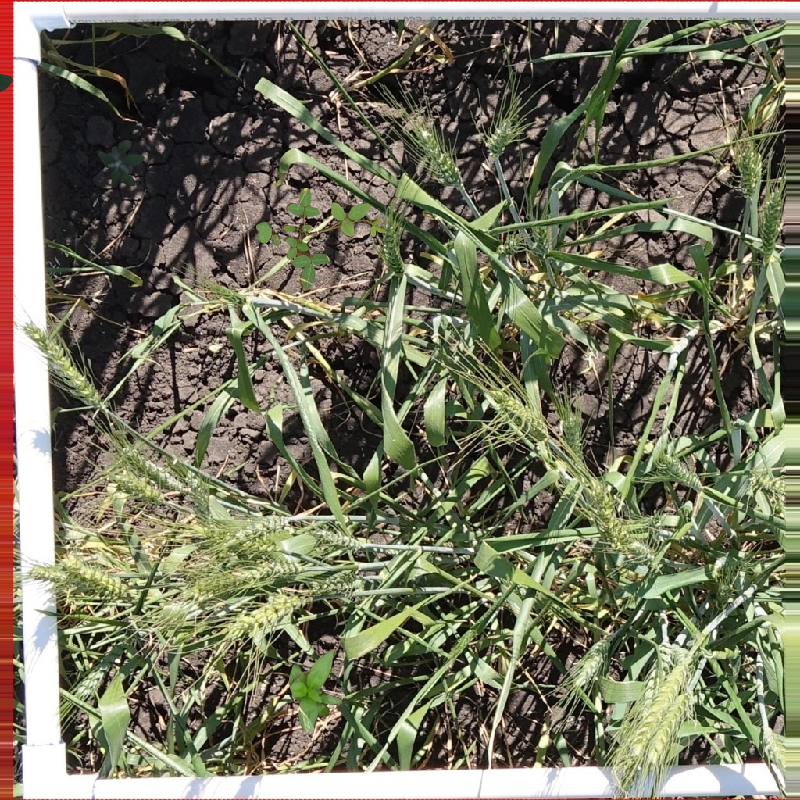spikelet: (626, 644, 697, 764), (16, 317, 107, 409), (159, 553, 297, 612), (220, 586, 310, 641), (118, 443, 194, 493), (410, 119, 464, 188), (483, 384, 550, 439), (56, 553, 133, 600), (217, 509, 294, 547), (584, 476, 622, 533), (569, 636, 612, 686), (655, 449, 706, 491), (731, 136, 764, 198), (755, 190, 782, 254), (308, 566, 362, 596), (70, 663, 109, 702), (483, 115, 519, 157), (307, 524, 364, 550), (756, 723, 790, 766), (378, 219, 404, 273), (749, 463, 788, 498)
weed: (282, 188, 388, 291), (289, 649, 342, 733), (98, 140, 145, 188), (256, 222, 281, 246)
